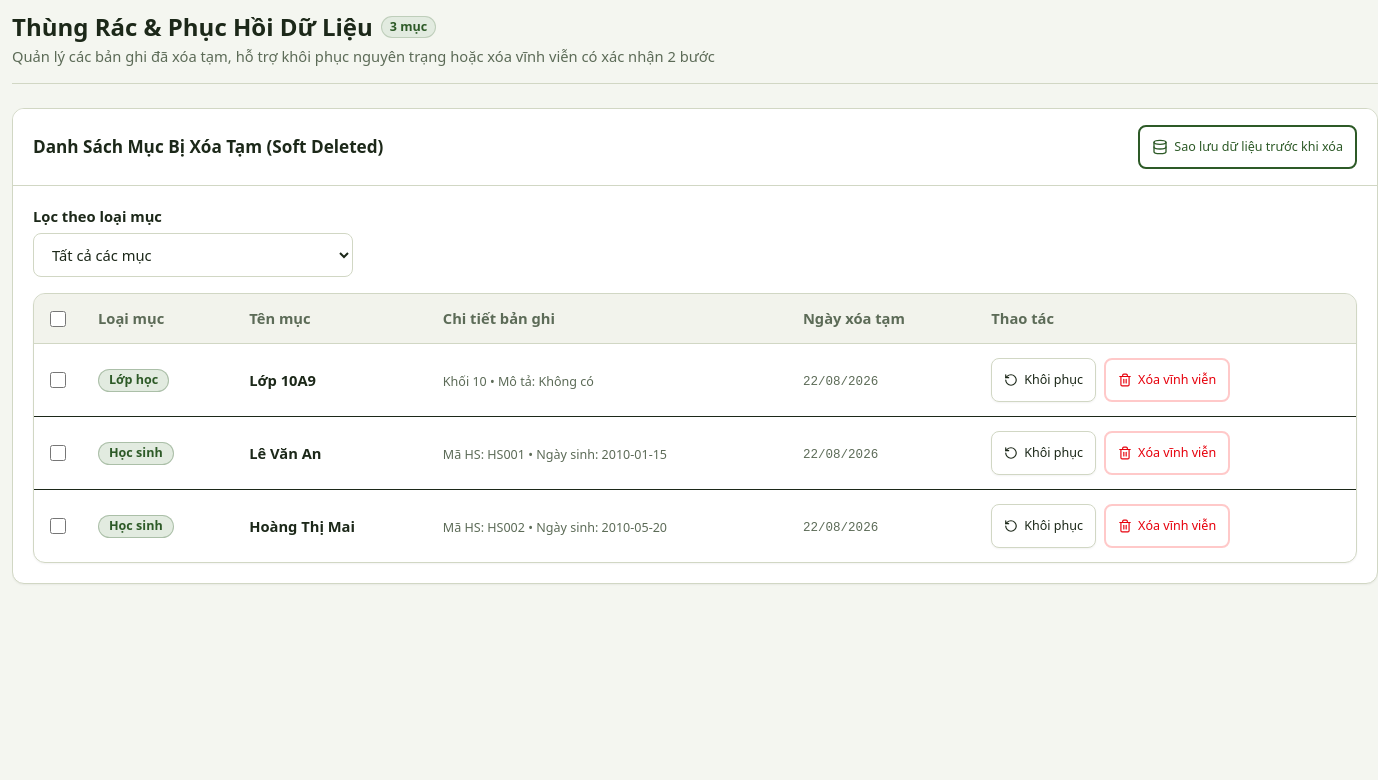
Test: TrashPage UI & Bulk Operations Tests › 3. Bulk restores selected items
Expected: the text "Lớp 10A9" is shown, [249,370,316,390]
// Select all items
Click the checkbox named "Chọn tất cả mục" at (58, 318), box [50,310,66,326]
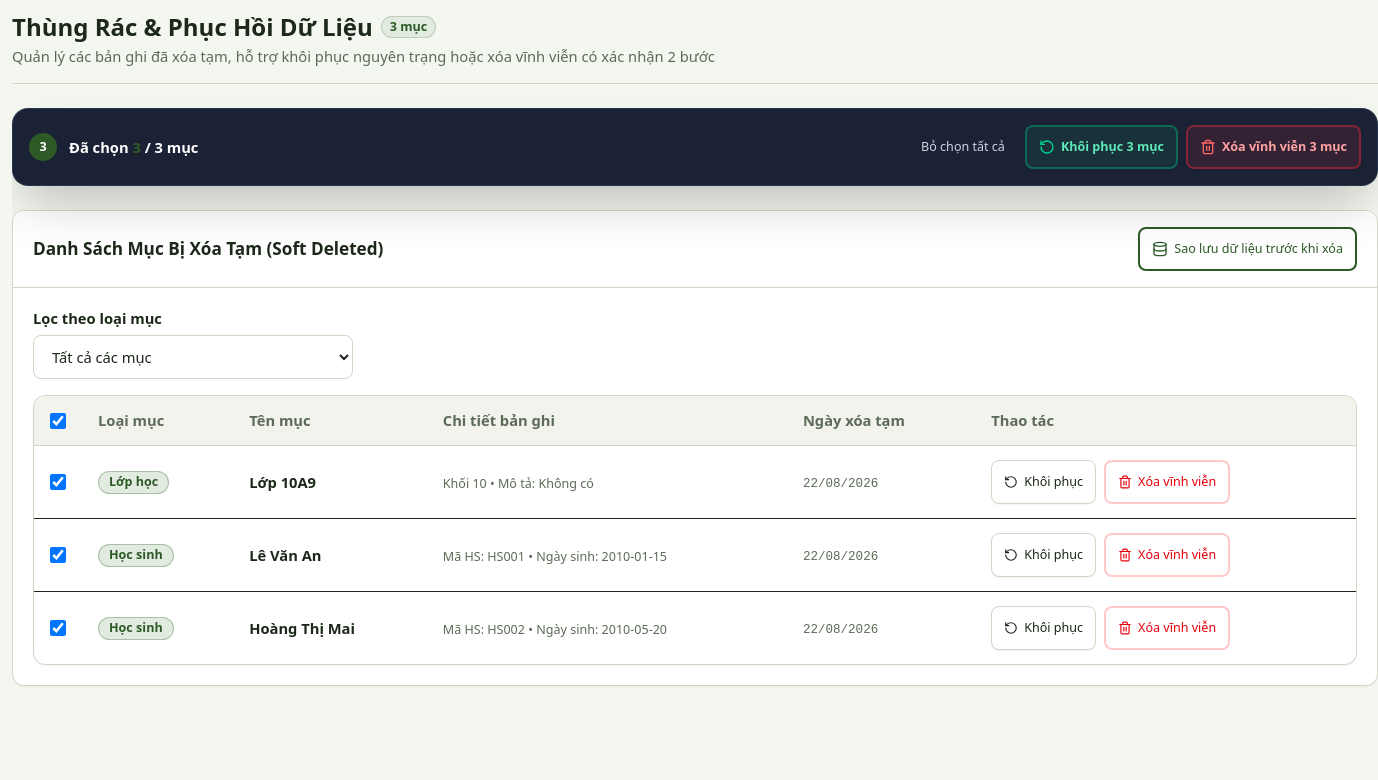
Click the button with test id "bulk-restore-btn" at (1101, 147), box [1025,125,1178,169]
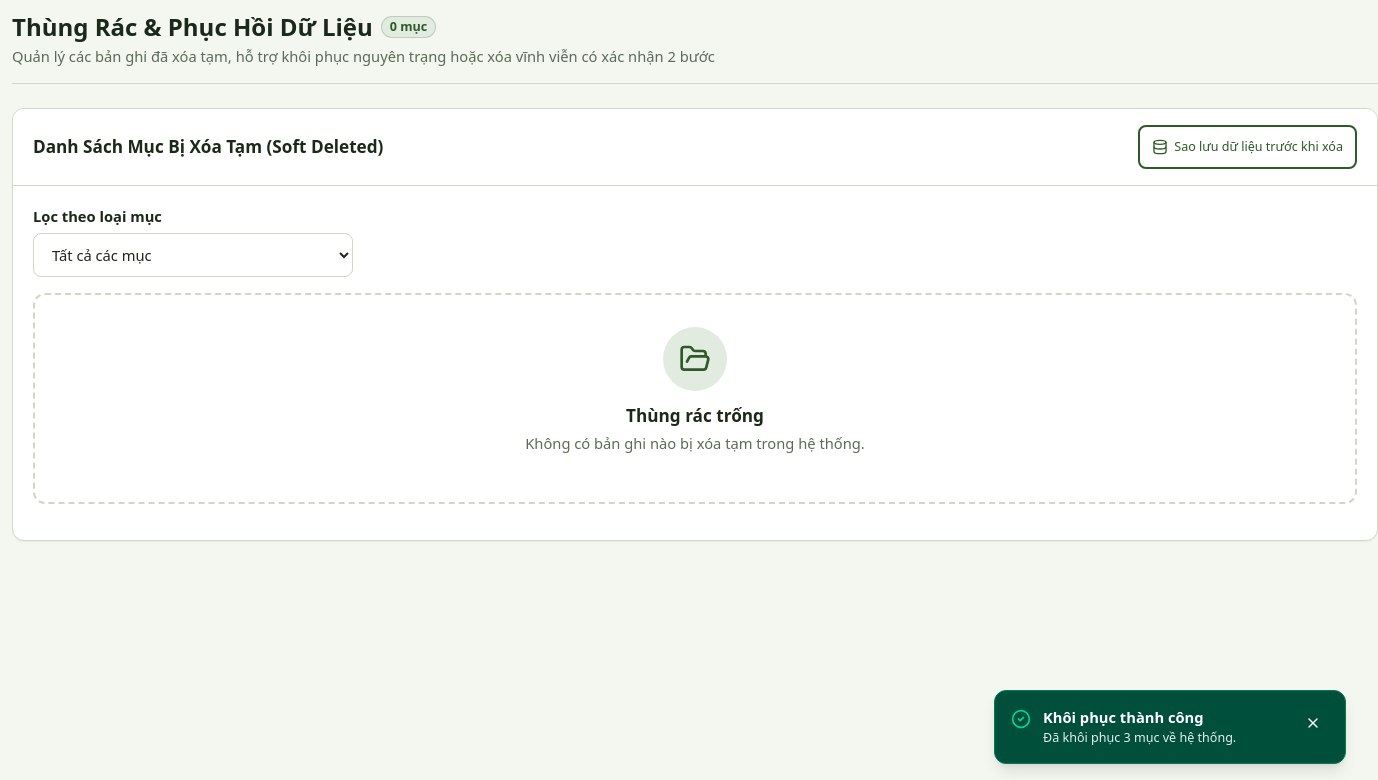
Now the heading "Thùng rác trống" is shown, box [626,403,764,429]
